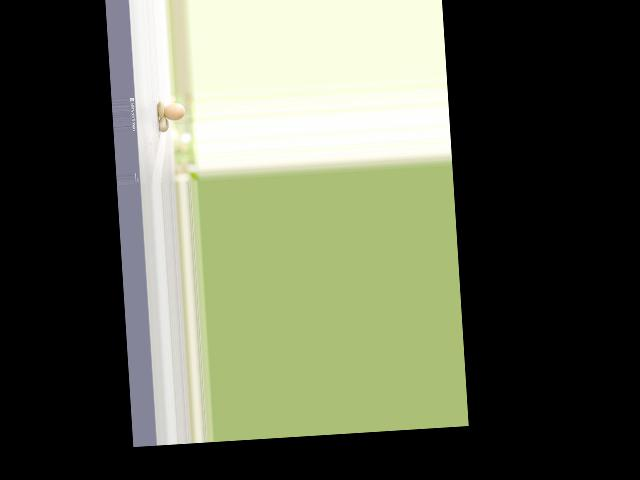egg: (163, 102, 185, 121)
